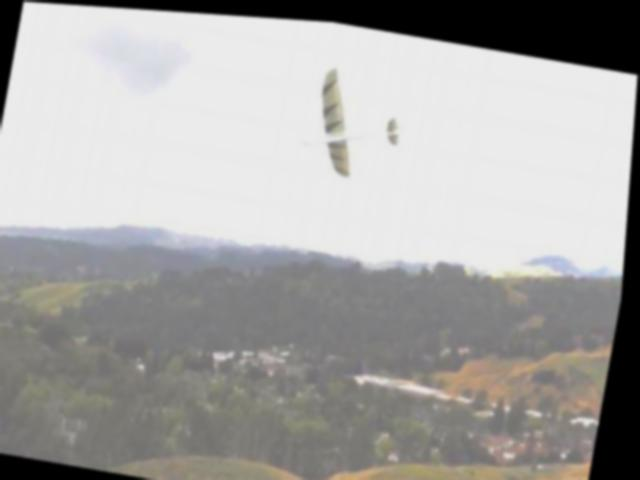iha: (294, 50, 418, 187)
